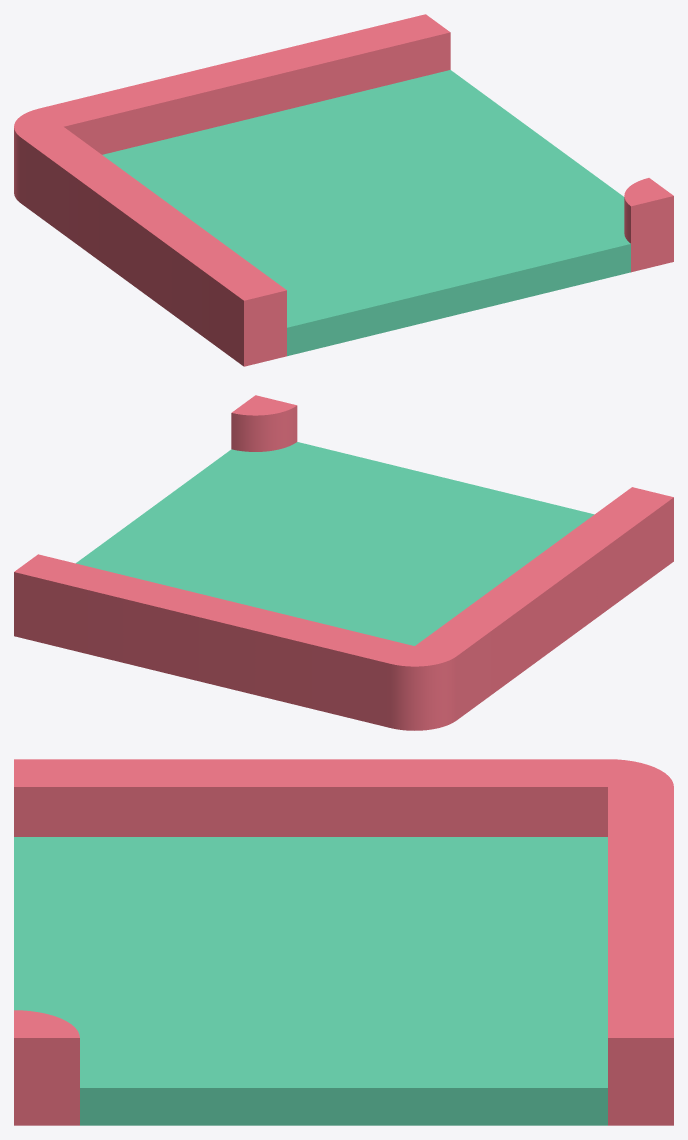
File: squareCornerA.glb
3 views of the same model, one above another, from view 1: azimuth 30°, elevation 25°; view 2: azimuth 150°, elevation 25°; view 3: azimuth 270°, elevation 25° (orthographic). The views are drawn at different scales.
Visible parts, largest first — view 1: squareCornerA; view 2: squareCornerA; view 3: squareCornerA.
Boxes of the visible parts, bbox=[...] form: squareCornerA: bbox=[14, 14, 673, 366]; squareCornerA: bbox=[14, 395, 673, 730]; squareCornerA: bbox=[14, 759, 673, 1125].
Size of the model in its own units: 0.9999 by 0.1467 by 0.9999.
